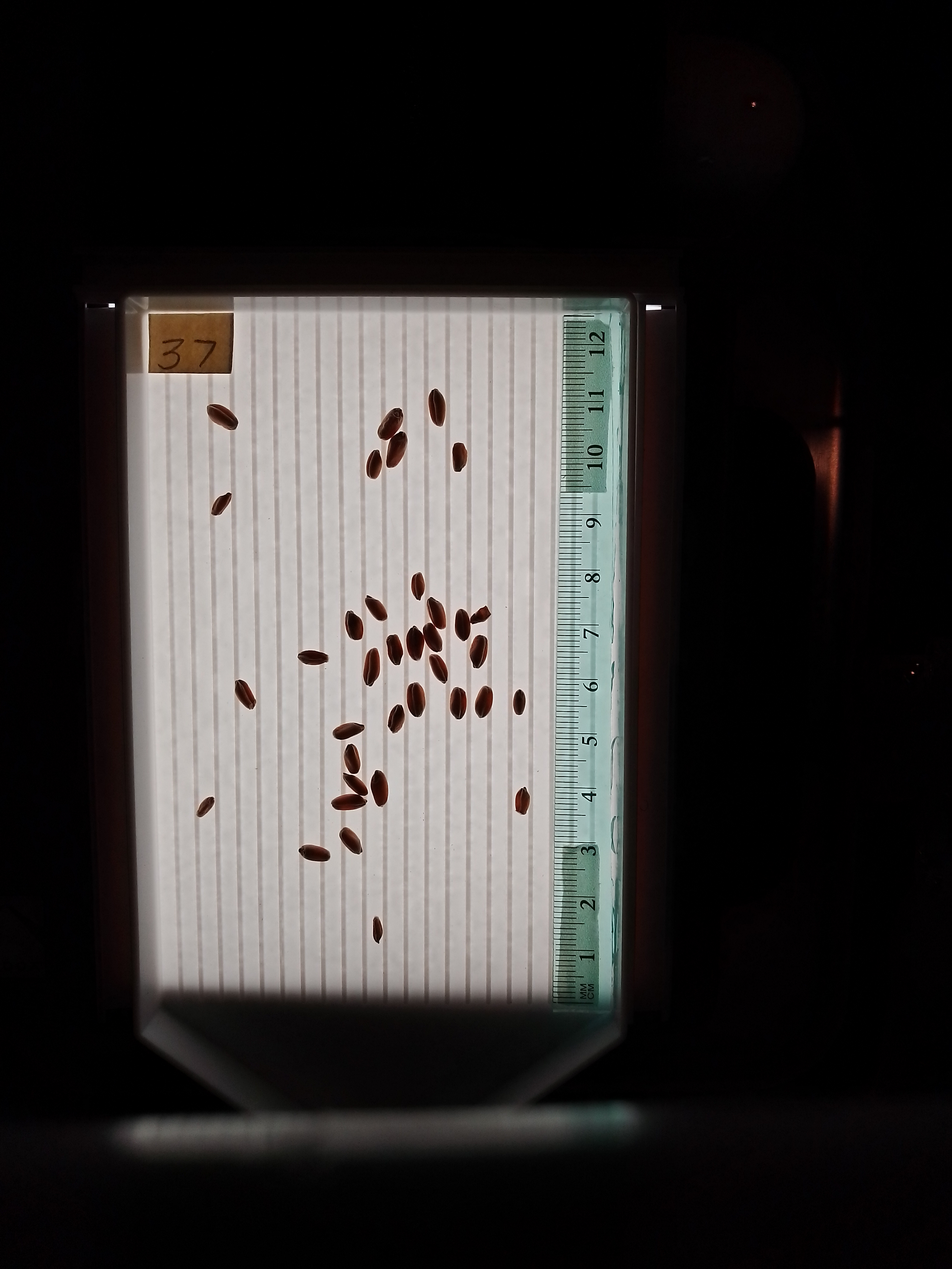seed mask: (379, 408, 403, 440), (386, 432, 407, 468), (207, 405, 237, 430), (428, 389, 446, 426), (363, 649, 380, 686), (343, 773, 368, 798), (407, 683, 425, 717), (371, 771, 388, 806), (340, 827, 362, 854), (235, 680, 255, 709), (332, 793, 364, 811), (475, 686, 493, 718), (406, 627, 424, 659), (427, 599, 446, 629), (470, 636, 488, 667), (334, 722, 364, 740), (300, 844, 329, 862), (450, 688, 467, 718), (424, 624, 442, 652), (366, 596, 386, 621), (366, 450, 383, 479), (345, 612, 363, 639), (388, 705, 405, 733), (344, 745, 360, 774), (211, 493, 231, 516), (387, 635, 402, 665), (431, 655, 447, 683), (299, 650, 327, 666), (455, 610, 470, 639), (452, 443, 467, 472), (515, 789, 530, 814), (371, 916, 384, 944), (411, 574, 425, 599), (197, 797, 214, 817), (513, 690, 526, 714)
